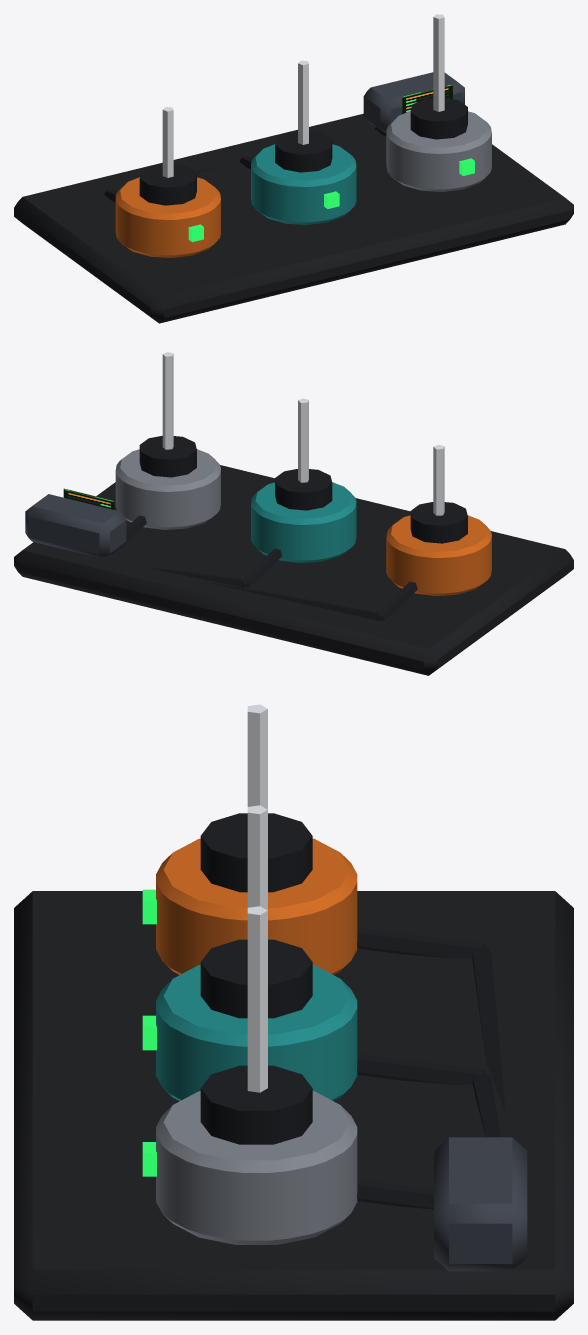
File: sciinstrument_sensor_puck_array.glb
3 renders of one model, top to bottom at view 1: azimuth 30°, elevation 25°; view 2: azimuth 150°, elevation 25°; view 3: azimuth 270°, elevation 25°, orthographic. The views are drawn at different scales.
Parts seen in each view (by area): view 1: sciinstrument_sensor_puck_array; view 2: sciinstrument_sensor_puck_array; view 3: sciinstrument_sensor_puck_array.
Part boxes in pixels (<box>): sciinstrument_sensor_puck_array: <box>14,14,573,323</box>; sciinstrument_sensor_puck_array: <box>14,352,573,675</box>; sciinstrument_sensor_puck_array: <box>14,704,573,1320</box>.
Bounding box in the file's own units: 0.5 × 0.205 × 0.3.
9 materials, 1 textured.
